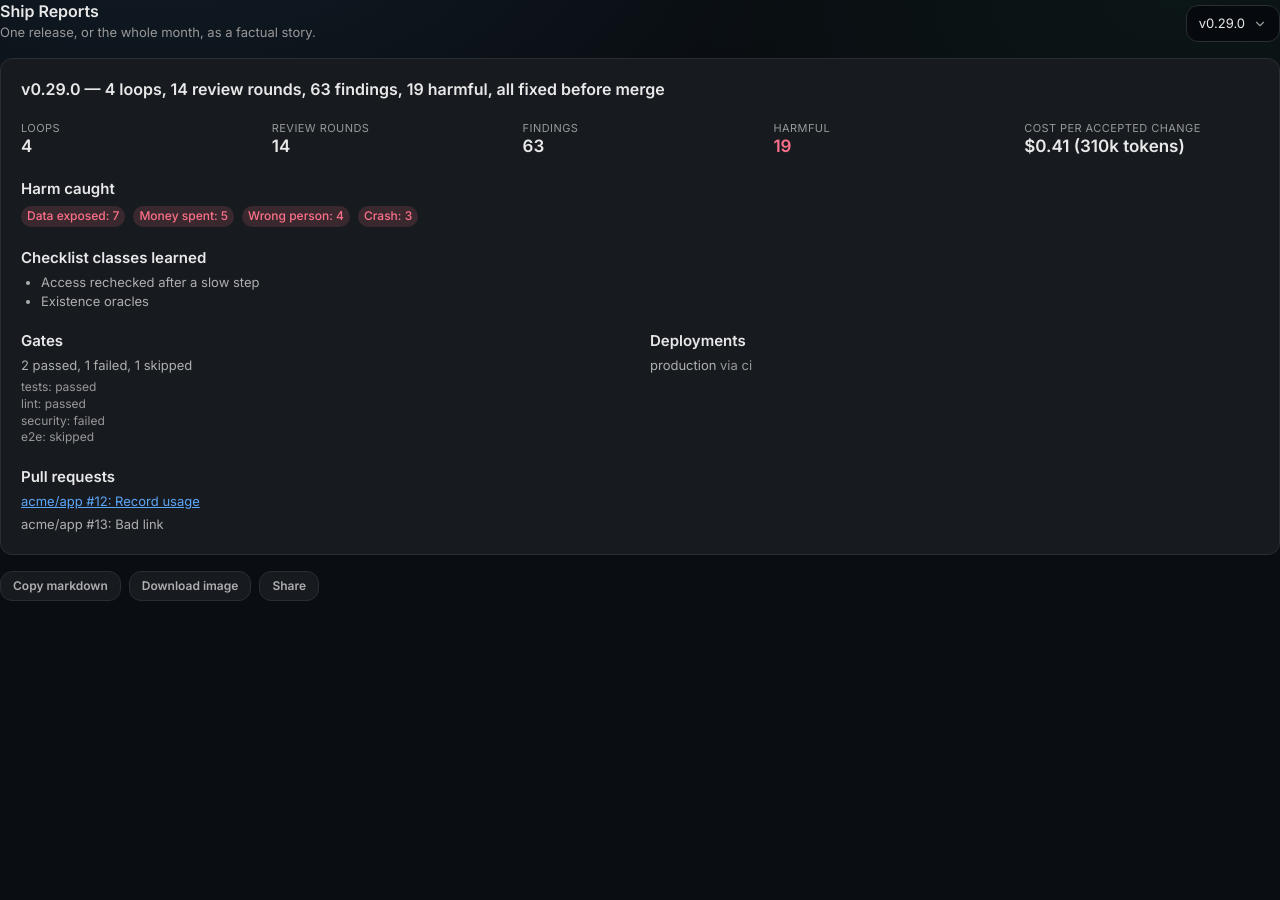
Test: Share dialog › opens from a ship report for editors
This screenshot has width=1280, height=900.
Click the button "Share" at x=289, y=586, box [259,571,319,601]
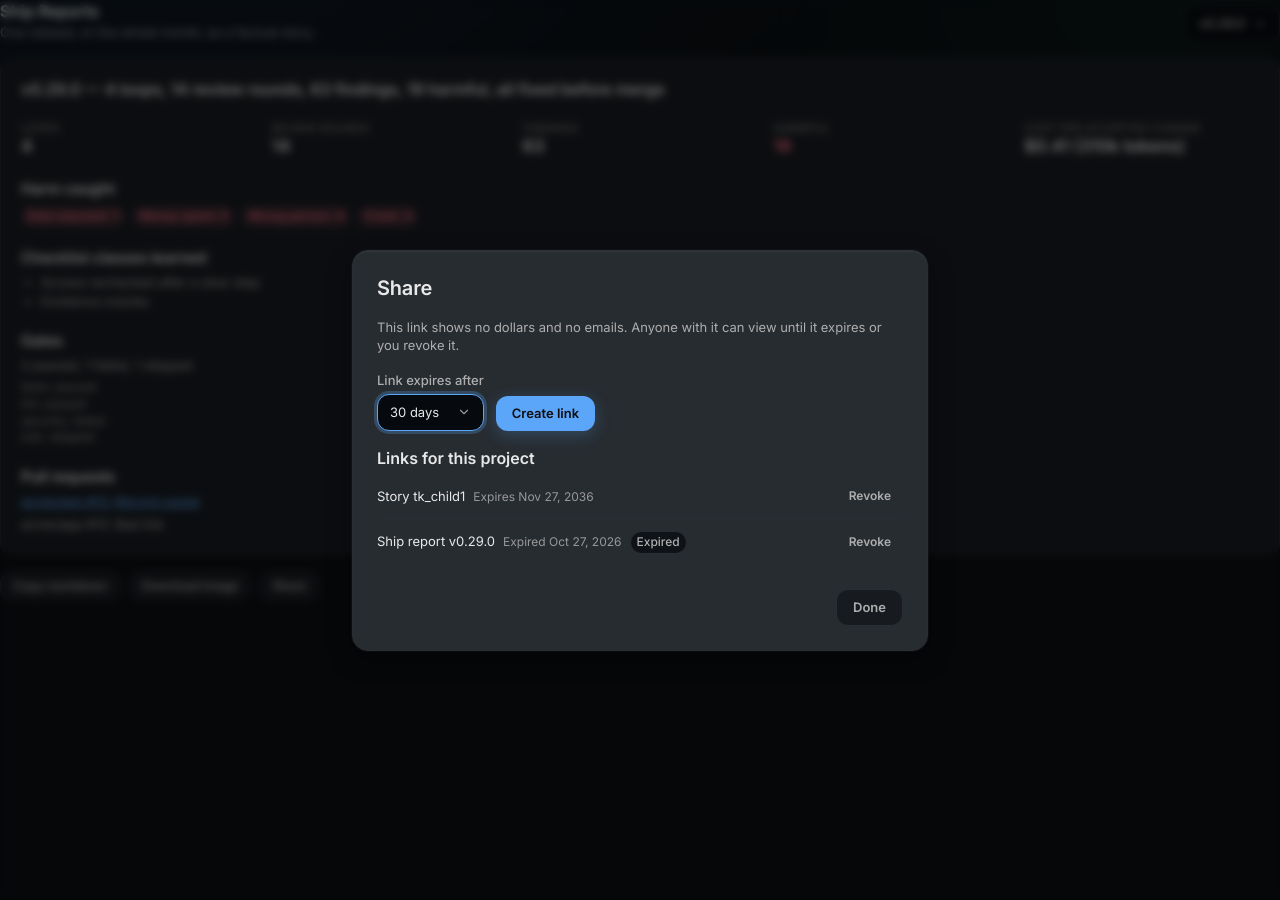
expect the dialog "Share" is shown: met, box [352,250,928,650]
